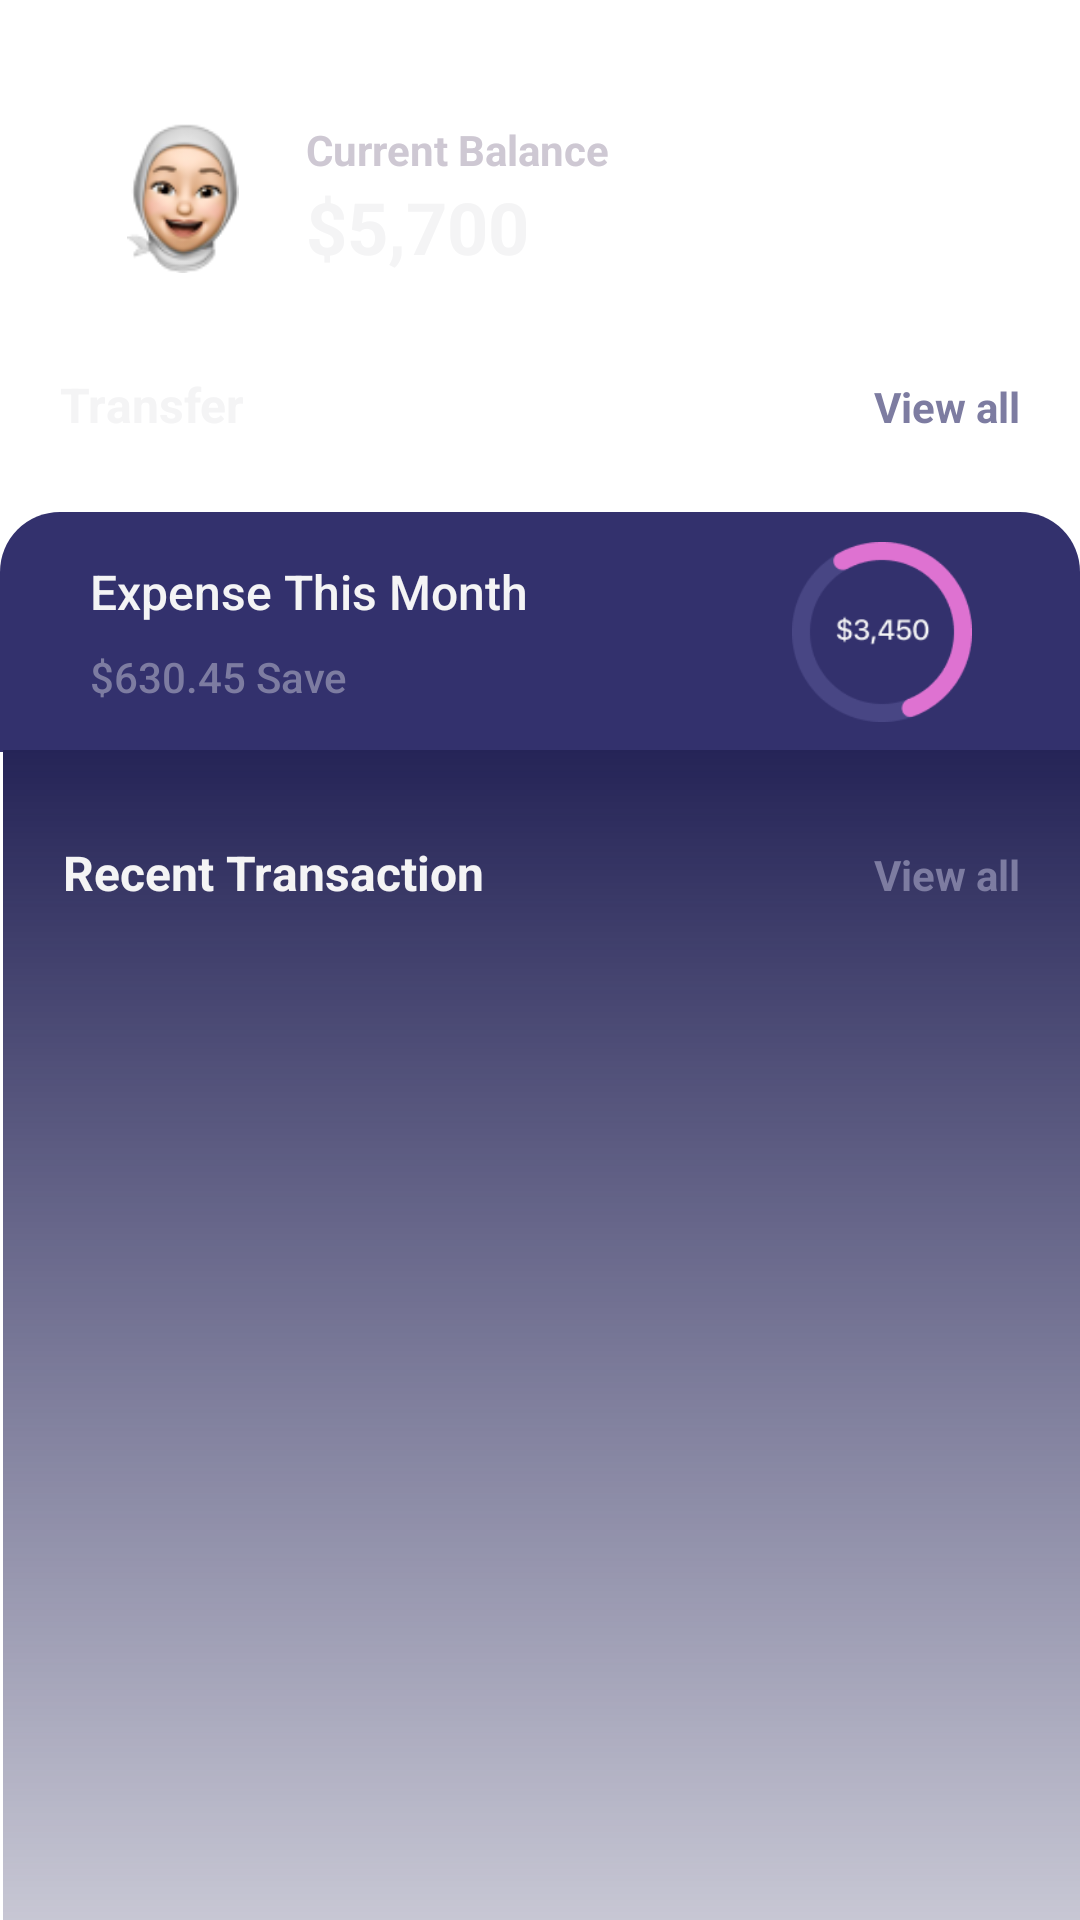

Where to tap for icons on this 1080*1920 app screen, as point (x, y):
Graph example: point (902, 629)
